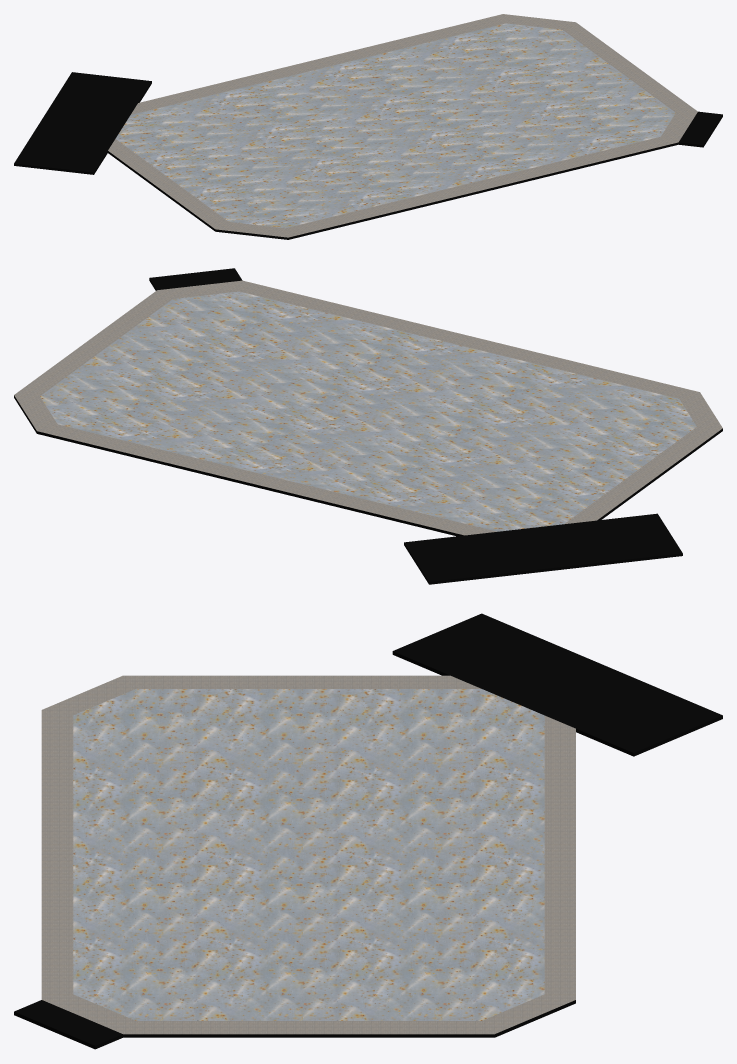
Rendered from newPisoPrincipal.fbx.
3 renders of one model, top to bottom at view 1: azimuth 30°, elevation 25°; view 2: azimuth 150°, elevation 25°; view 3: azimuth 270°, elevation 25°, orthographic. The views are drawn at different scales.
Visible parts, largest first — view 1: newPisoPrincipal; view 2: newPisoPrincipal; view 3: newPisoPrincipal.
Part boxes in pixels (box(x1,y1,x2,y2)): newPisoPrincipal: box(14, 14, 722, 239); newPisoPrincipal: box(14, 268, 722, 584); newPisoPrincipal: box(14, 613, 722, 1049).
Bounding box in the file's own units: 2564 × 9.84 × 1776.
